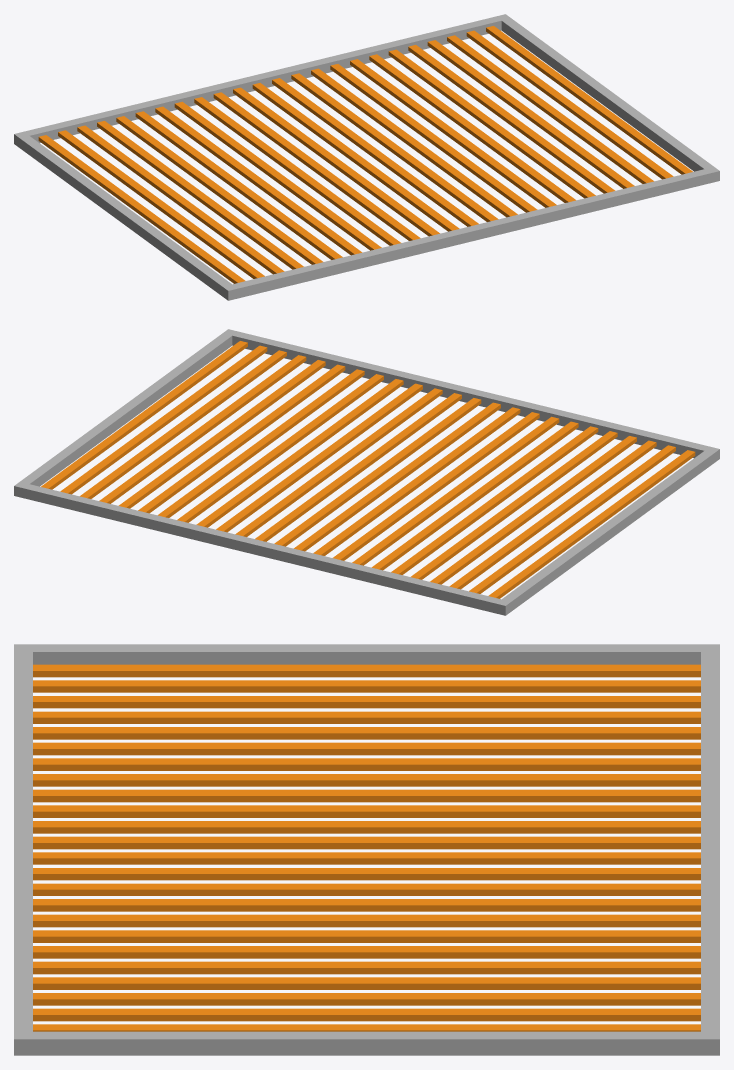
File: MetalConstruction02.fbx
3 views of the same model, one above another, from view 1: azimuth 30°, elevation 25°; view 2: azimuth 150°, elevation 25°; view 3: azimuth 270°, elevation 25° (orthographic). The views are drawn at different scales.
Parts seen in each view (by area): view 1: SM_MetalConstruction02; view 2: SM_MetalConstruction02; view 3: SM_MetalConstruction02.
Boxes of the visible parts, box(x1,y1,x2,y2) form: SM_MetalConstruction02: box(14, 14, 719, 300); SM_MetalConstruction02: box(14, 329, 719, 615); SM_MetalConstruction02: box(14, 644, 719, 1055).
Size of the model in its own units: 676 by 13.06 by 510.
